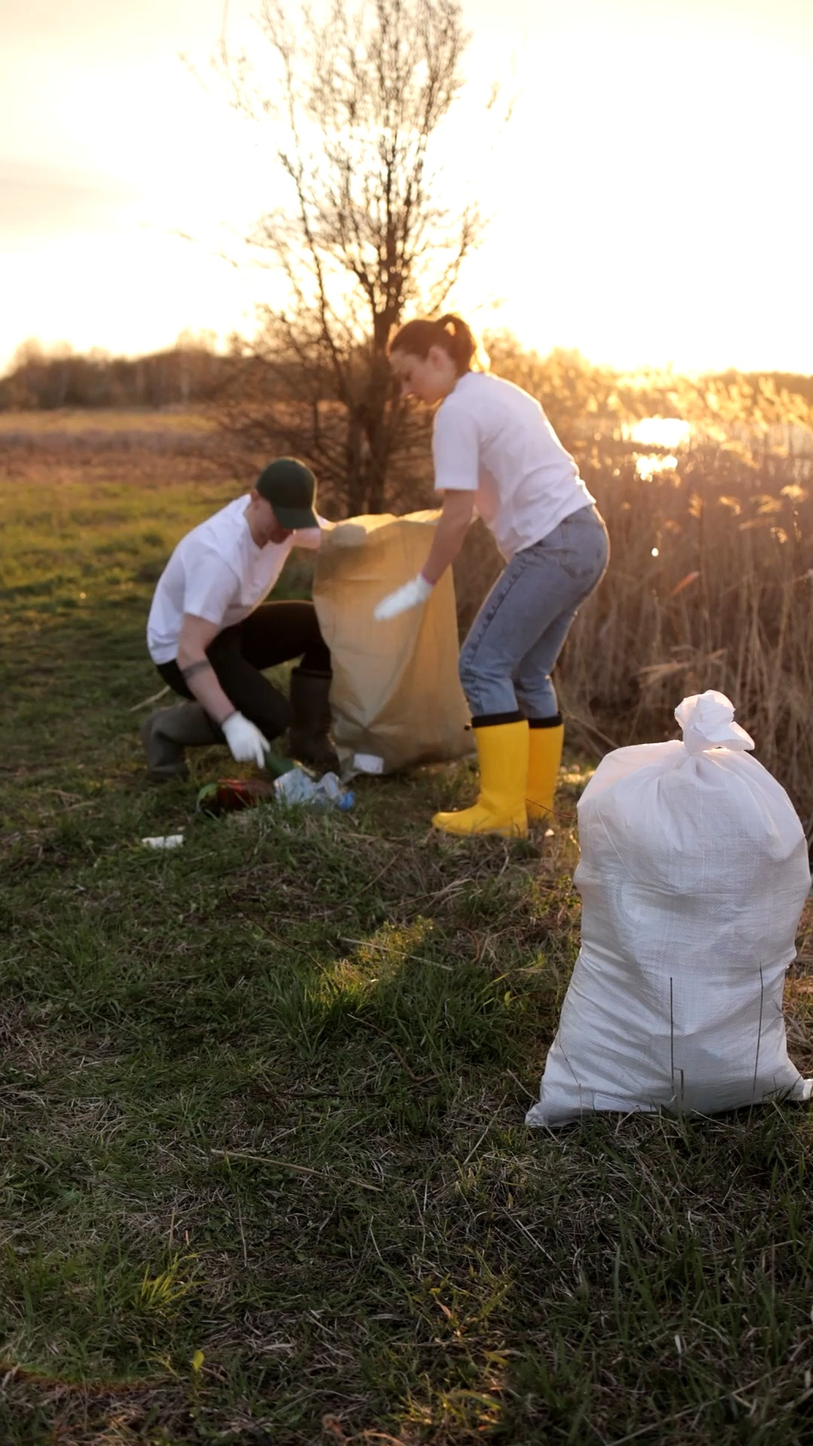gloves: (203, 700, 277, 769), (347, 576, 459, 620)
